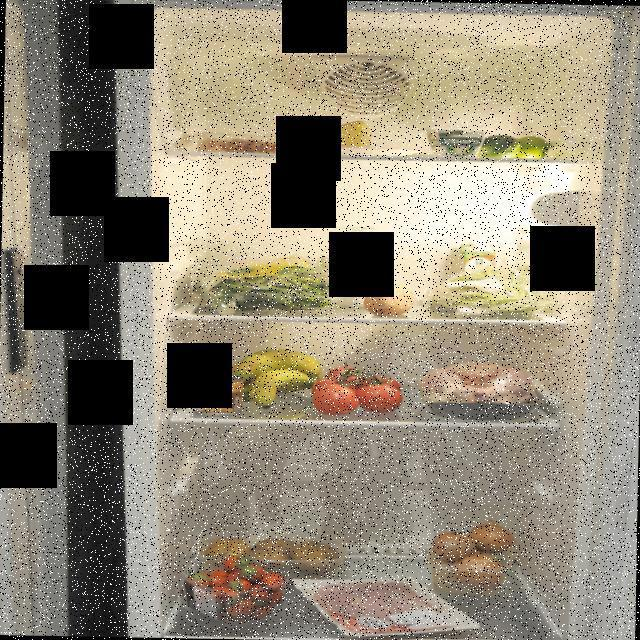banana: (226, 346, 326, 406)
cheese: (324, 116, 376, 152)
chicken: (412, 357, 542, 420)
corn: (187, 370, 243, 416)
goat_cheese: (418, 123, 486, 157)
green_beans: (432, 260, 559, 318)
ham: (308, 581, 447, 639)
heavy_cream: (456, 243, 499, 294)
lime: (469, 133, 554, 158)
onion: (432, 511, 516, 598)
potato: (192, 530, 342, 569)
shrimp: (192, 133, 280, 157)
spinach: (190, 253, 350, 314)
strawberries: (176, 550, 292, 628)
sugar: (316, 228, 391, 310)
sweet_potato: (356, 279, 424, 318)
tomato: (310, 362, 407, 418)
